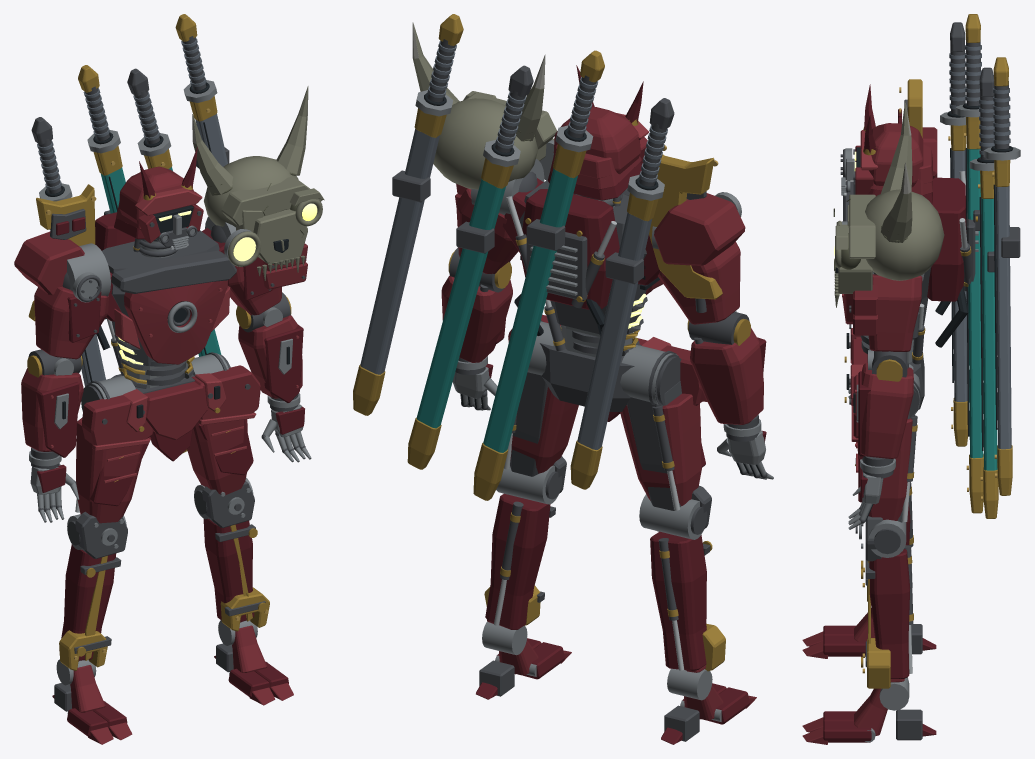
Rendered from texture-first-crimson-mech-v1.glb.
The picture shows the model from 3 angles, left to right: view 1: azimuth 30°, elevation 25°; view 2: azimuth 150°, elevation 25°; view 3: azimuth 270°, elevation 25°; orthographic projection. The views are drawn at different scales.
Visible parts, largest first — view 1: CORE_chest, CORE_upper_arm.L, CORE_upper_arm.R, CORE_thigh.R, CORE_shin.R, CORE_shin.L, CORE_thigh.L, CORE_head, CORE_forearm.R, CORE_pelvis, CORE_forearm.L, CORE_foot.R (+3 smaller); view 2: CORE_chest, CORE_upper_arm.R, CORE_thigh.R, CORE_upper_arm.L, CORE_shin.R, CORE_shin.L, CORE_forearm.R, CORE_thigh.L, CORE_head, CORE_foot.R, CORE_foot.L, CORE_forearm.L (+3 smaller); view 3: CORE_chest, CORE_upper_arm.L, CORE_shin.L, CORE_forearm.L, CORE_head, CORE_foot.L, CORE_thigh.L, CORE_foot.R, CORE_hand.L, CORE_upper_arm.R, CORE_pelvis, CORE_shin.R.
Part boxes in pixels (x1,y1,x2,y2): CORE_chest: (31,14,236,453); CORE_upper_arm.L: (192,86,324,315); CORE_upper_arm.R: (14,184,110,359); CORE_thigh.R: (75,375,153,523); CORE_shin.R: (59,511,127,670); CORE_shin.L: (194,477,269,631); CORE_thigh.L: (187,352,260,495); CORE_head: (114,147,203,250); CORE_forearm.R: (21,349,83,457); CORE_pelvis: (111,373,225,461); CORE_forearm.L: (236,292,303,402); CORE_foot.R: (52,659,132,744); CORE_chest: (353,14,674,500); CORE_upper_arm.R: (649,145,745,324); CORE_thigh.R: (620,345,707,510); CORE_upper_arm.L: (412,22,556,274); CORE_shin.R: (639,485,725,672); CORE_shin.L: (484,456,566,629); CORE_forearm.R: (687,311,766,424); CORE_thigh.L: (504,314,578,476); CORE_head: (547,65,648,200); CORE_foot.R: (661,668,756,744); CORE_foot.L: (476,621,571,699); CORE_forearm.L: (441,247,512,362); CORE_chest: (842,14,1020,518); CORE_upper_arm.L: (833,101,944,351); CORE_shin.L: (855,516,913,688); CORE_forearm.L: (853,350,913,459); CORE_head: (841,84,932,203); CORE_foot.L: (802,677,936,744); CORE_thigh.L: (849,364,921,522); CORE_foot.R: (802,608,936,658); CORE_hand.L: (848,456,895,529); CORE_upper_arm.R: (840,79,937,180); CORE_pelvis: (844,328,924,409); CORE_shin.R: (855,458,913,601).
Size of the model in its own units: 2.37 by 4.77 by 1.4.
